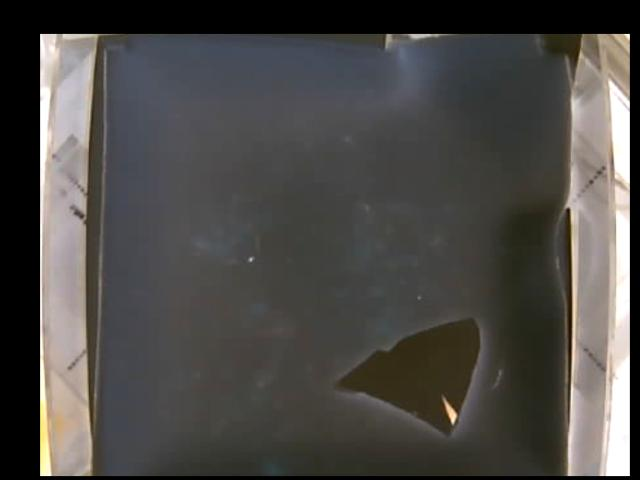China: (335, 315, 481, 436)
